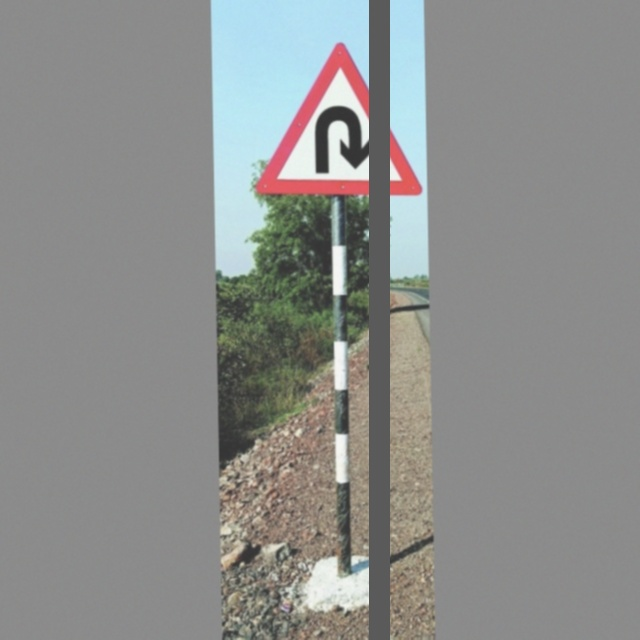Right_Hair_Pin_Bend: (264, 39, 418, 200)
